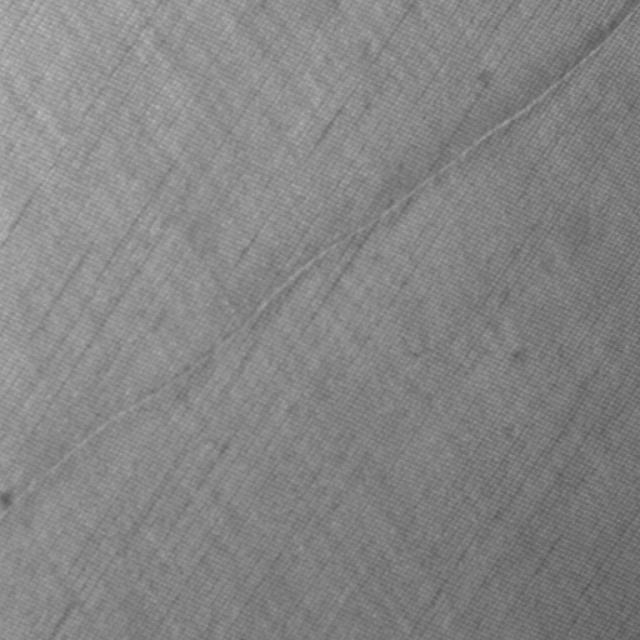objects: (0, 0, 638, 526)
